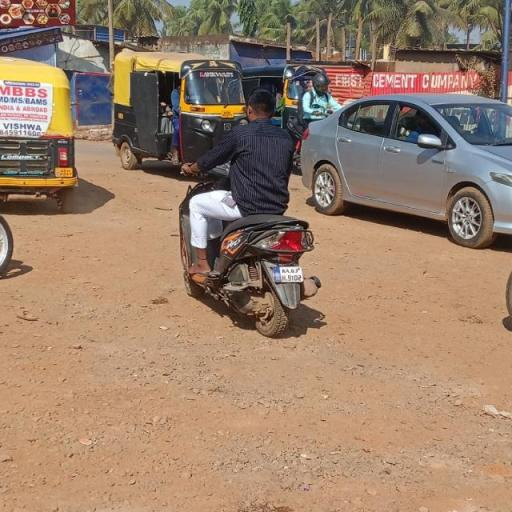bike: (173, 87, 330, 343)
numberplate: (274, 266, 305, 284)
withouthelmet: (249, 90, 274, 119)
